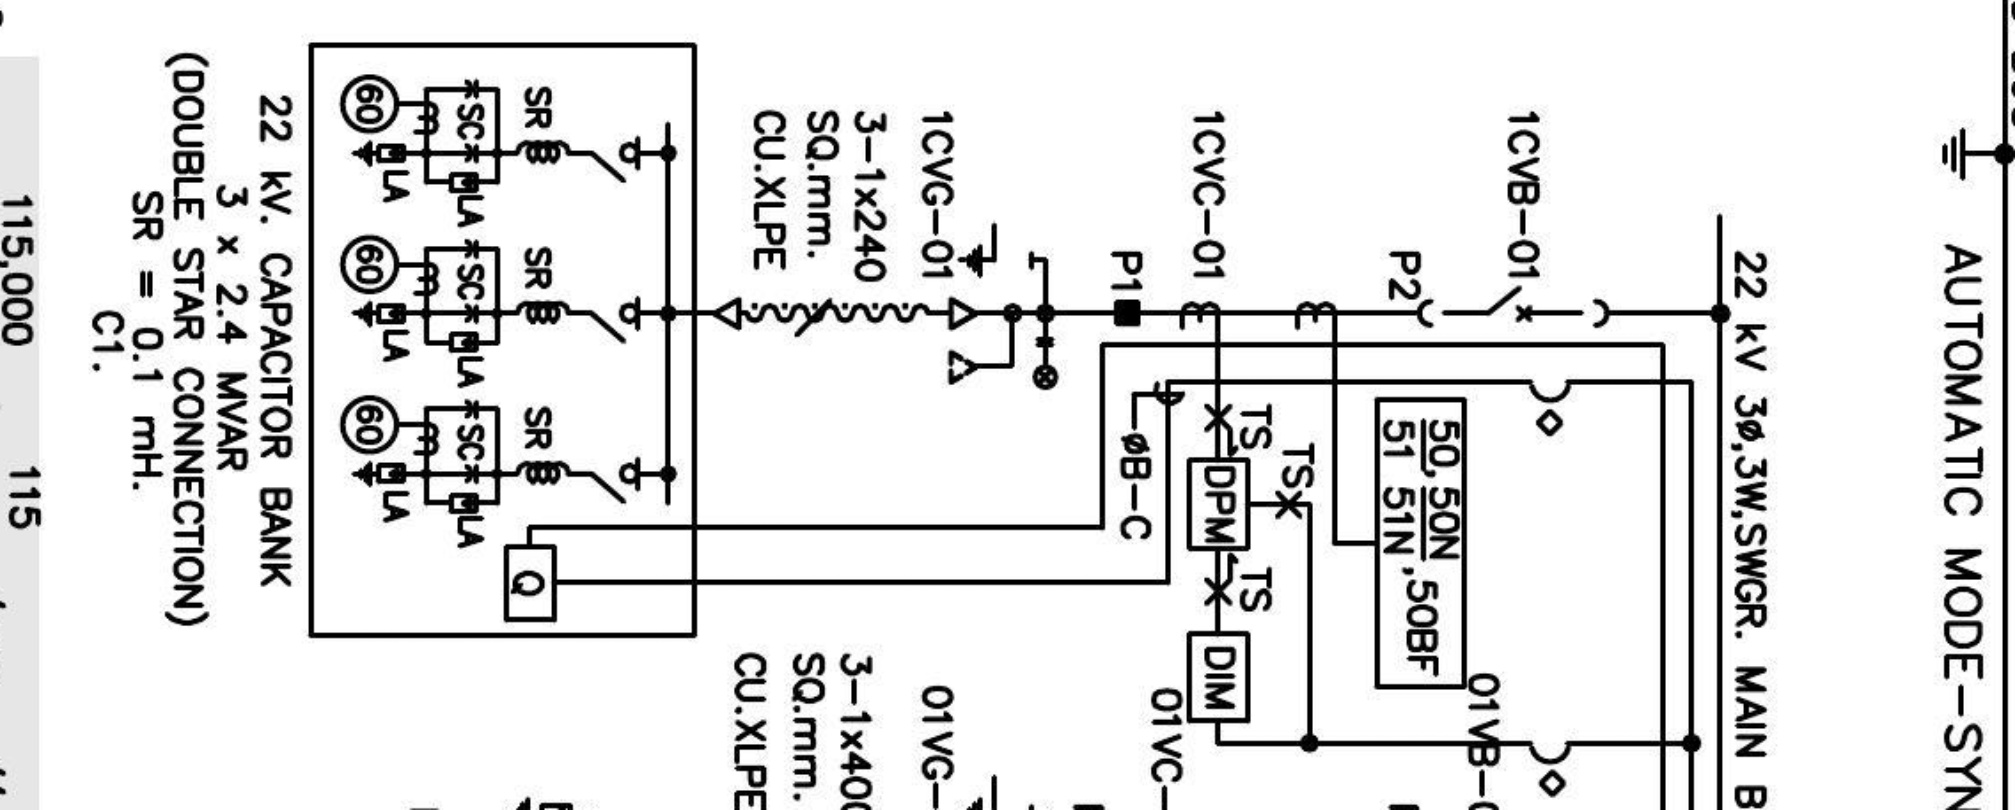22_breaker: (1415, 284, 1611, 329)
22_cap_bank: (306, 41, 699, 640)
22_gs: (956, 220, 1034, 280)
22_ll: (1031, 336, 1060, 392)
DIM: (1185, 629, 1252, 725)
DPM: (1185, 456, 1252, 553)
Q: (502, 543, 558, 624)
terminator_single: (712, 296, 743, 333)
terminator_w_future: (947, 294, 1016, 386)
